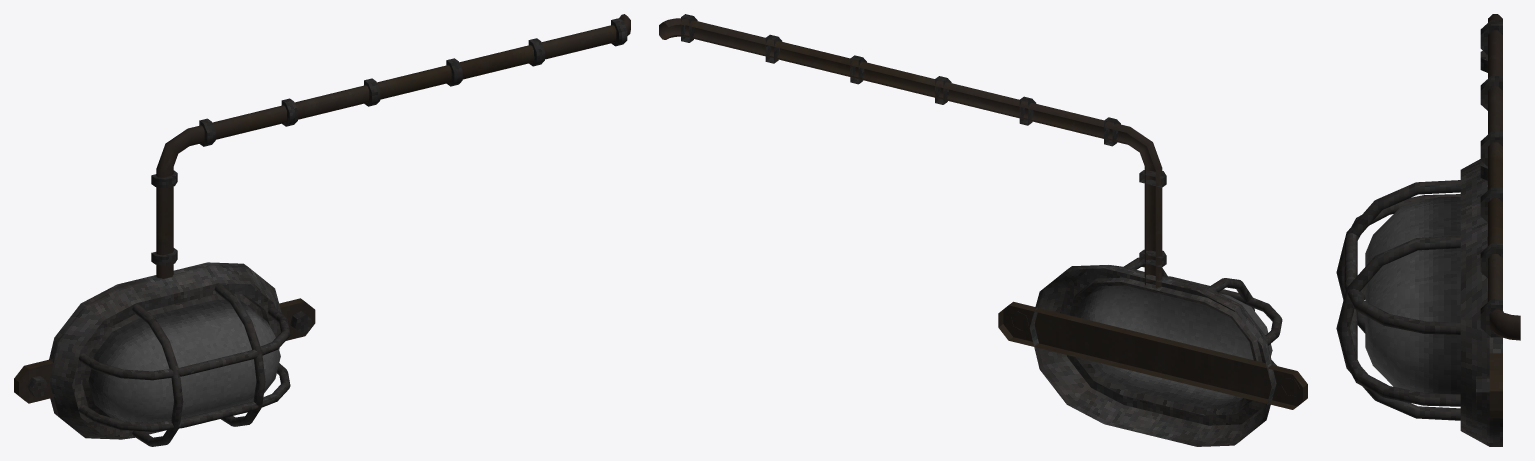
File: lamp_1_off.glb
3 views of the same model, side by side, from view 1: azimuth 30°, elevation 25°; view 2: azimuth 150°, elevation 25°; view 3: azimuth 270°, elevation 25° (orthographic). The views are drawn at different scales.
Parts seen in each view (by area): view 1: lamp_1_off; view 2: lamp_1_off; view 3: lamp_1_off.
Boxes of the visible parts, box(x1,y1,x2,y2) form: lamp_1_off: box(14, 14, 630, 446); lamp_1_off: box(659, 14, 1307, 446); lamp_1_off: box(1336, 14, 1520, 446).
Bounding box in the file's own units: 0.7532 × 0.343 × 0.1393.
4 materials, 4 textured.
